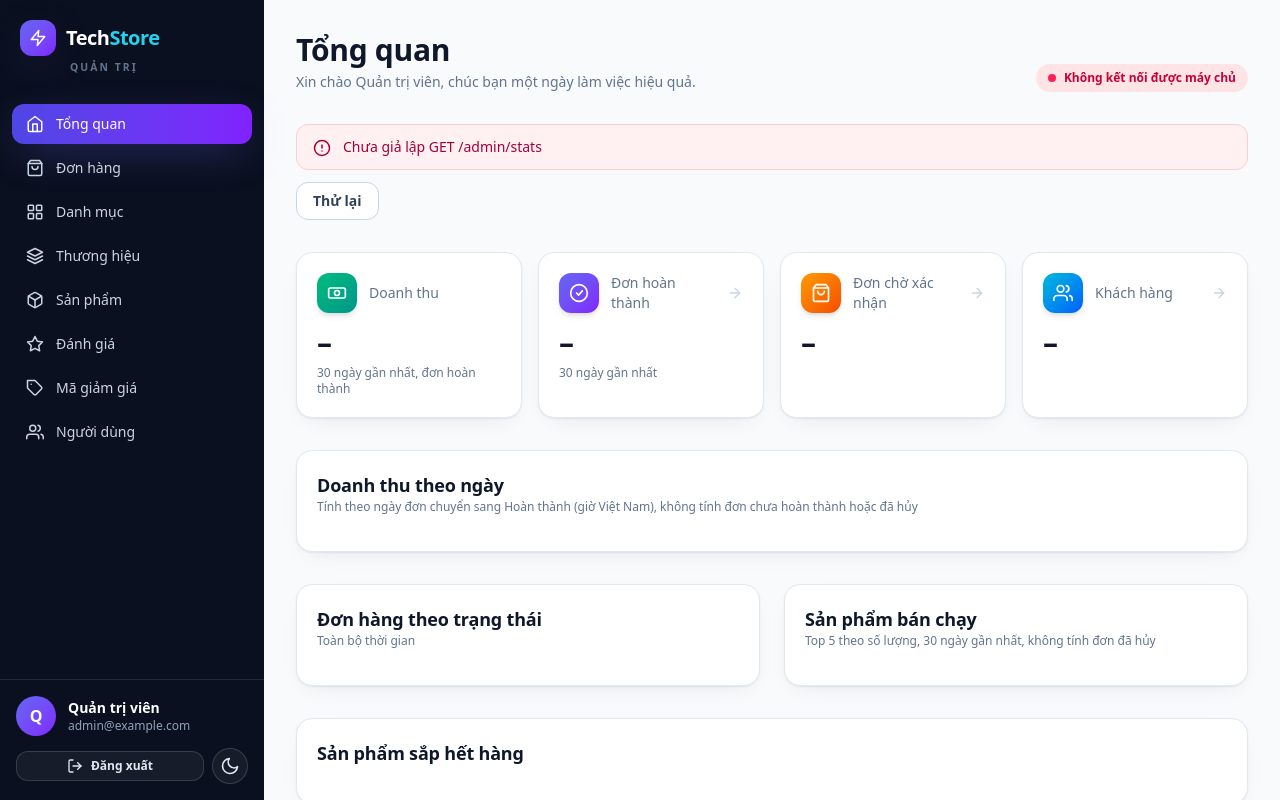
Test case: Trang mã giảm giá (US-24) › mục "Mã giảm giá" trong menu dẫn tới trang này
What coordinates should you click on to do the following:
click the link "Mã giảm giá"
I would click on:
 (82, 387)
Its box is [26,378,137,397].
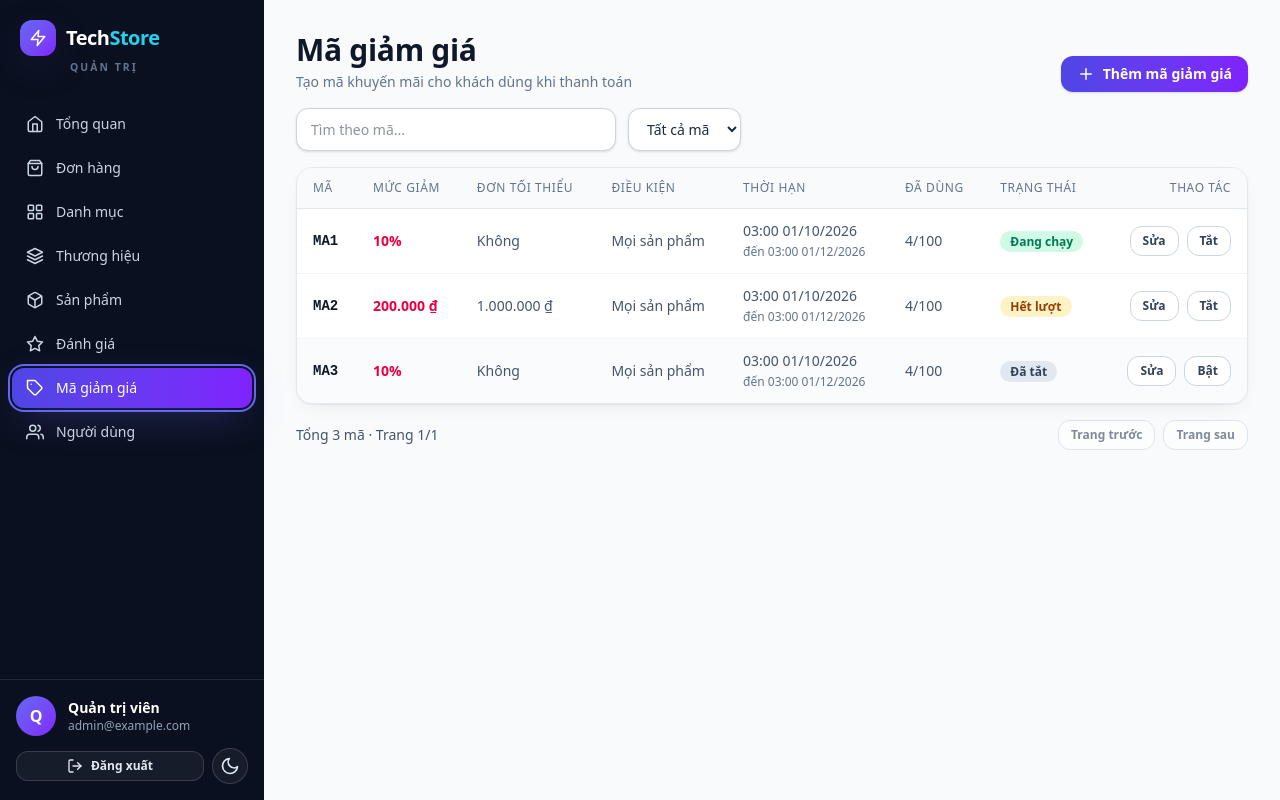
Now the heading "Mã giảm giá" is shown, box [296,29,477,70]
